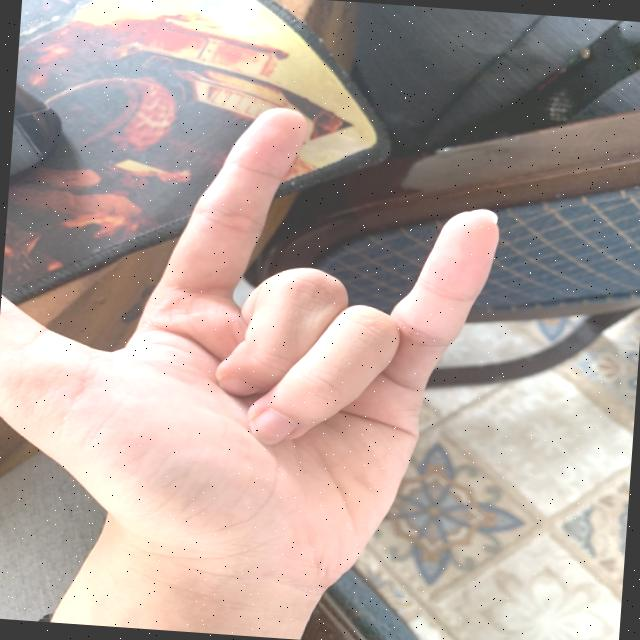love: (0, 64, 538, 607)
